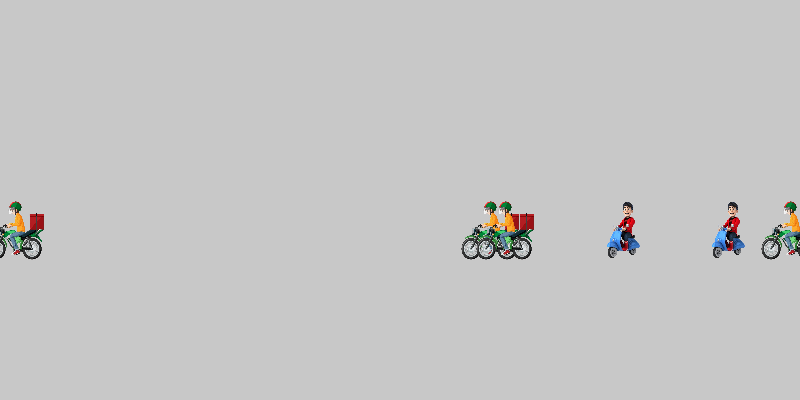helmet: (460, 200, 520, 260), (475, 200, 535, 260), (0, 200, 45, 260), (760, 200, 800, 260)
no_helmet: (595, 200, 655, 260), (700, 200, 760, 260)
